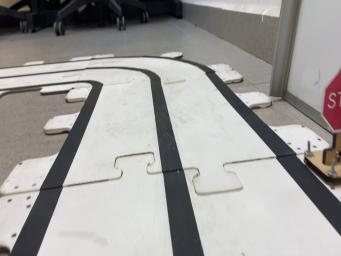stop: (304, 69, 341, 184), (304, 69, 341, 184), (304, 69, 341, 184), (304, 69, 341, 184), (304, 69, 341, 184), (304, 69, 341, 184)
street: (0, 54, 341, 256), (0, 54, 341, 256), (0, 54, 341, 256), (0, 54, 341, 256), (0, 54, 341, 256), (0, 54, 341, 256)
